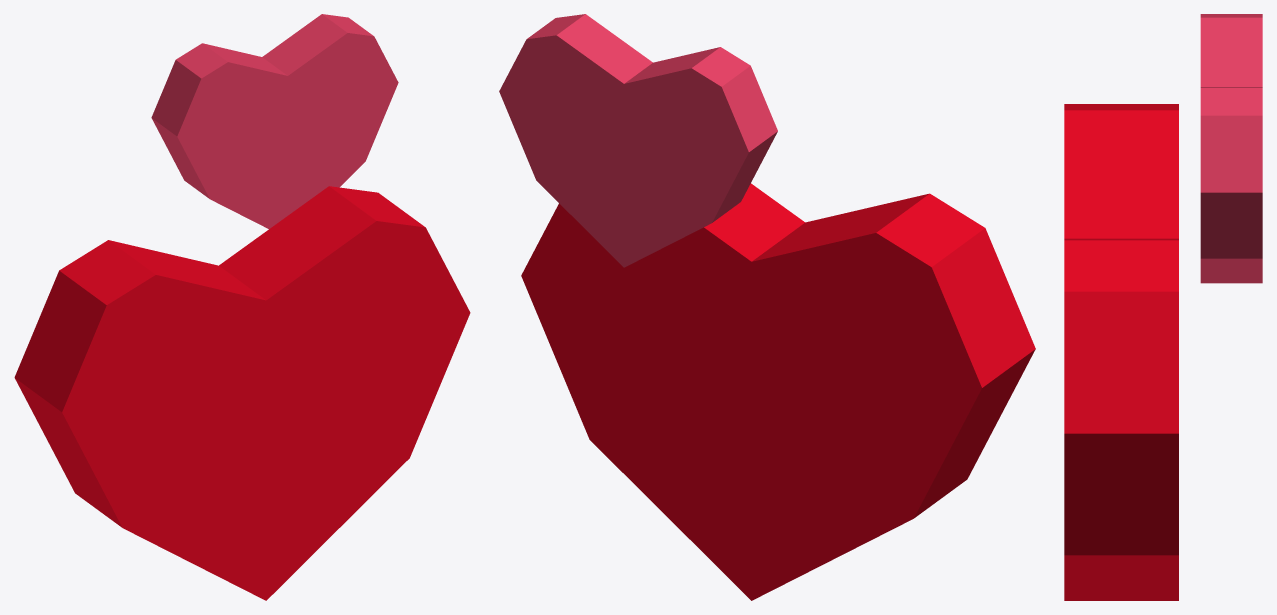
File: heart.glb
3 renders of one model, left to right at view 1: azimuth 30°, elevation 25°; view 2: azimuth 150°, elevation 25°; view 3: azimuth 270°, elevation 25°, orthographic. The views are drawn at different scales.
Visible parts, largest first — view 1: Cube, Cube.001; view 2: Cube, Cube.001; view 3: Cube, Cube.001.
Boxes of the visible parts, x1,y1,x2,y2 form: Cube: (14,186,470,600); Cube.001: (151,14,398,228); Cube: (521,183,1035,600); Cube.001: (499,14,777,267); Cube: (1064,104,1178,600); Cube.001: (1200,14,1262,283).
Size of the model in its own units: 1.16 by 1.33 by 0.4038.
